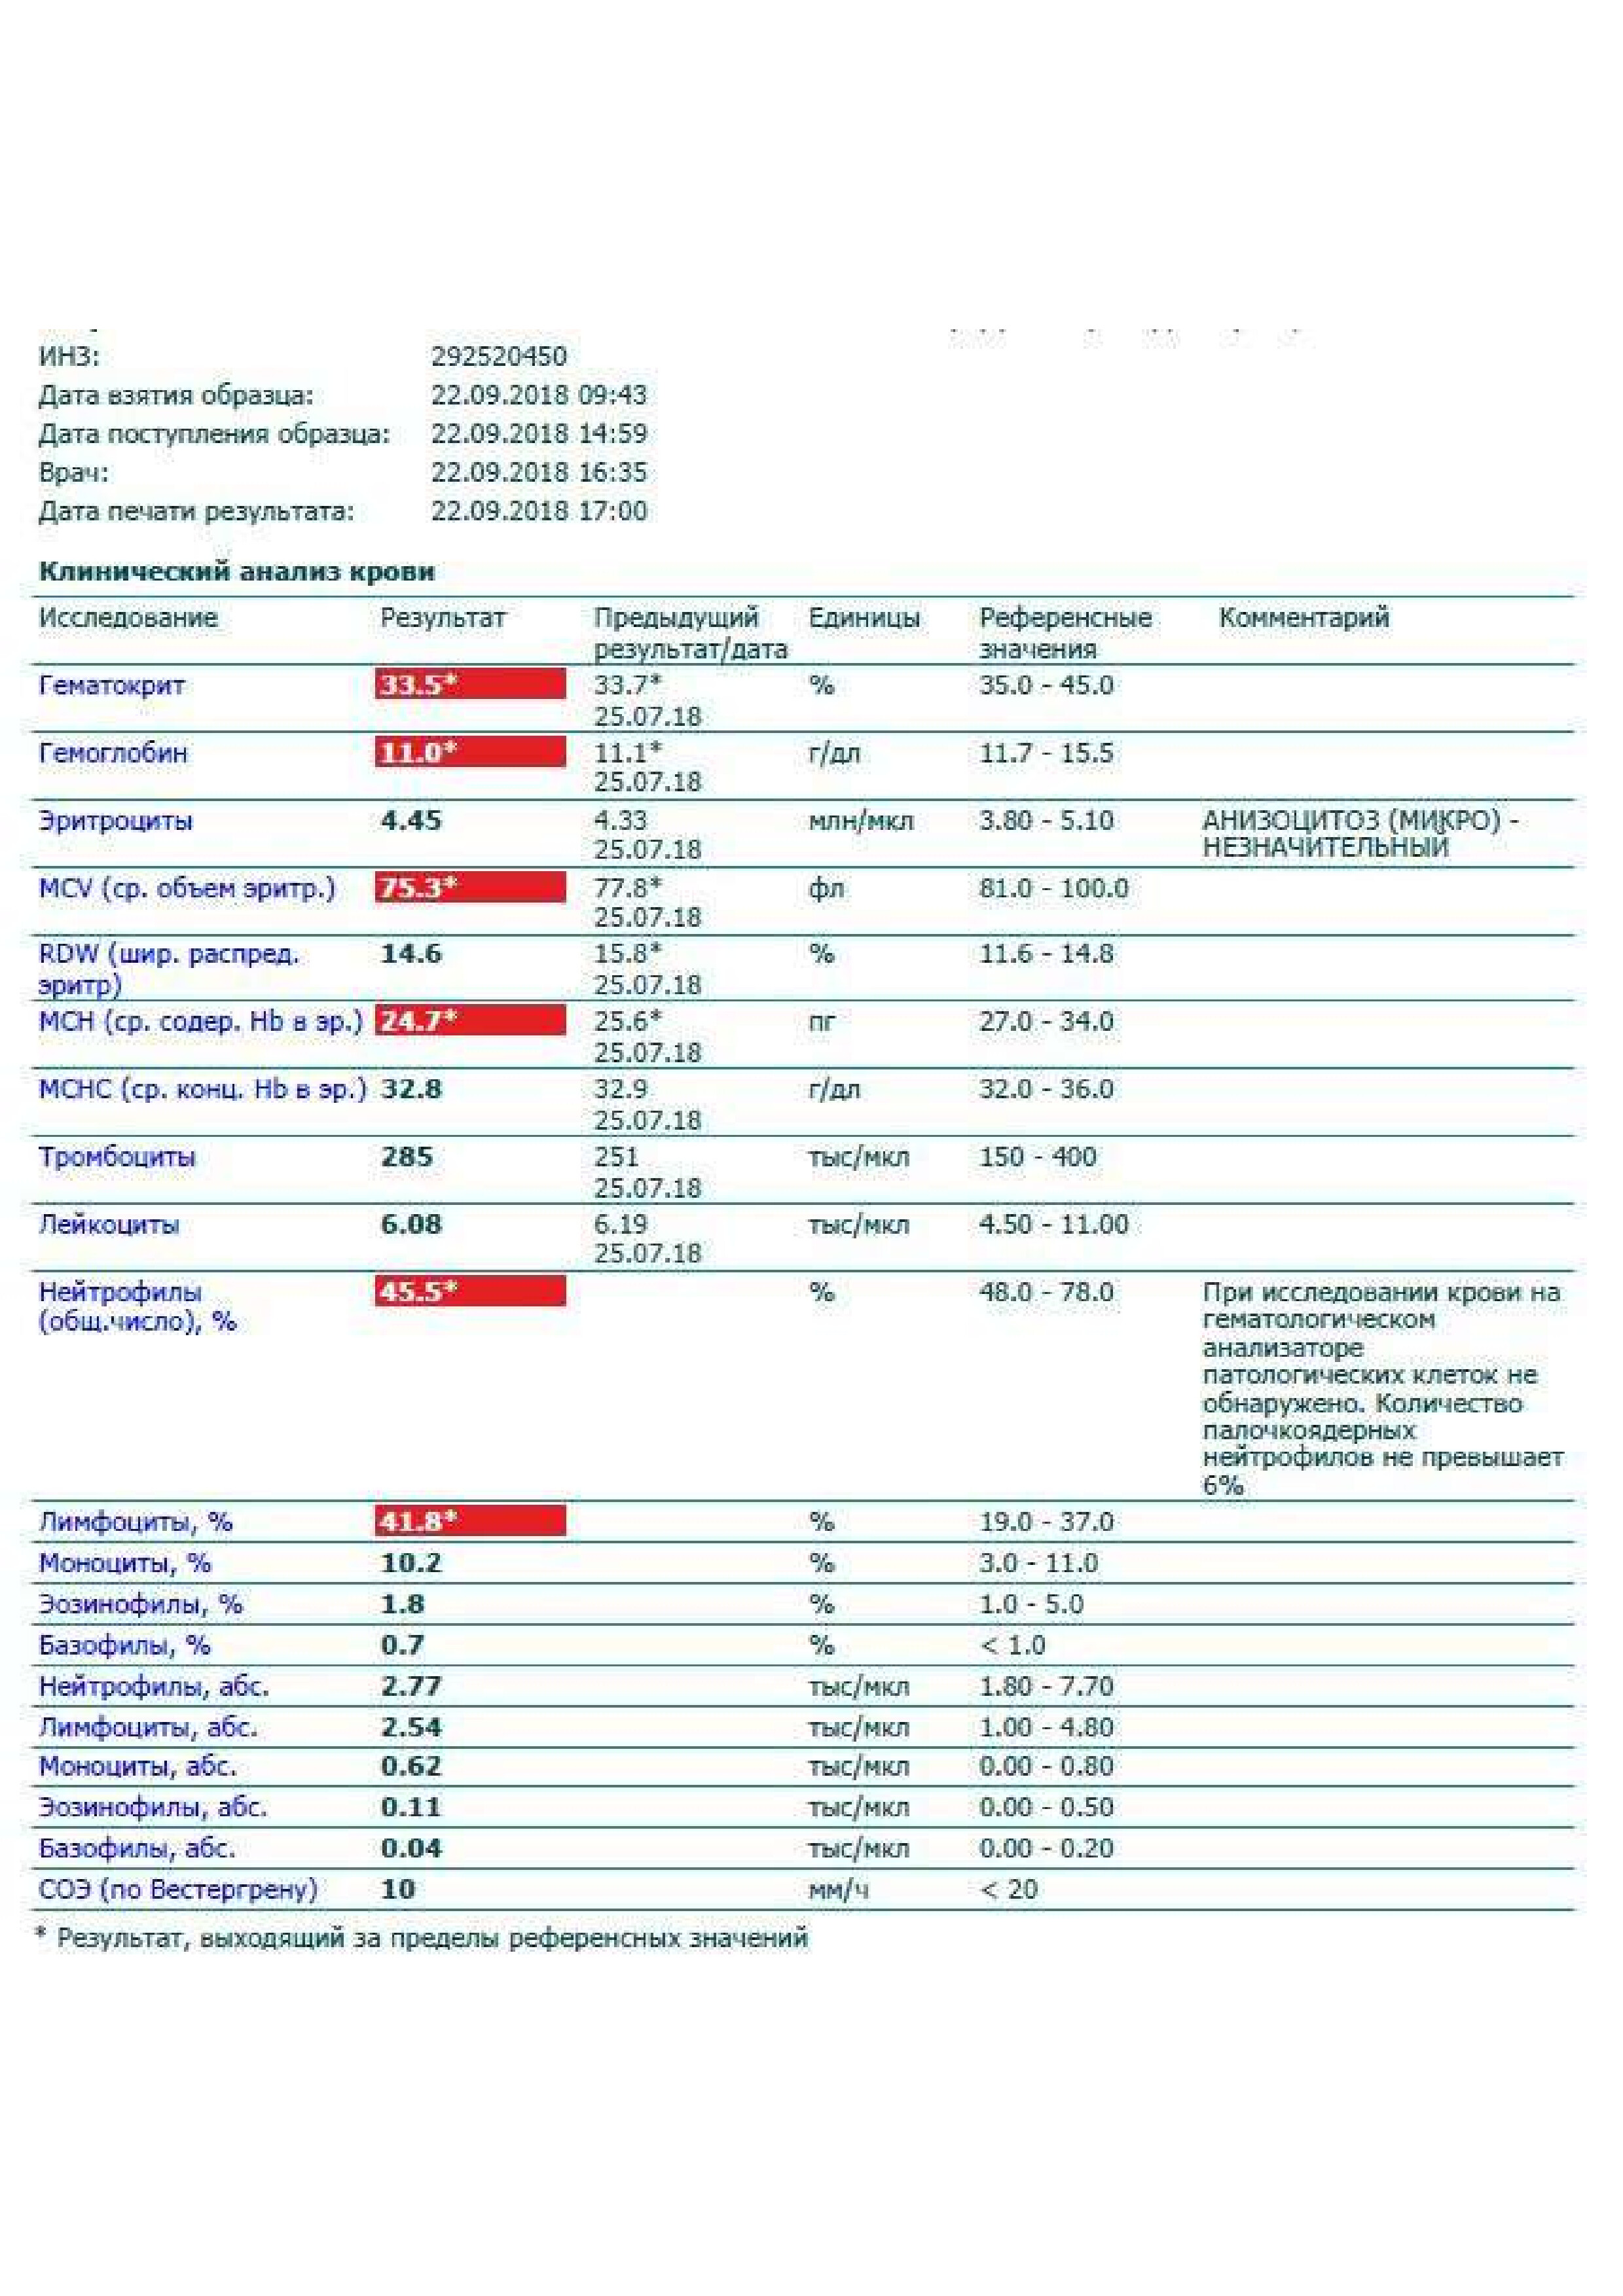column: (1201, 595, 1567, 1912), (37, 595, 367, 1912), (592, 595, 790, 1912), (978, 595, 1152, 1912), (378, 595, 511, 1912), (806, 595, 920, 1912)
